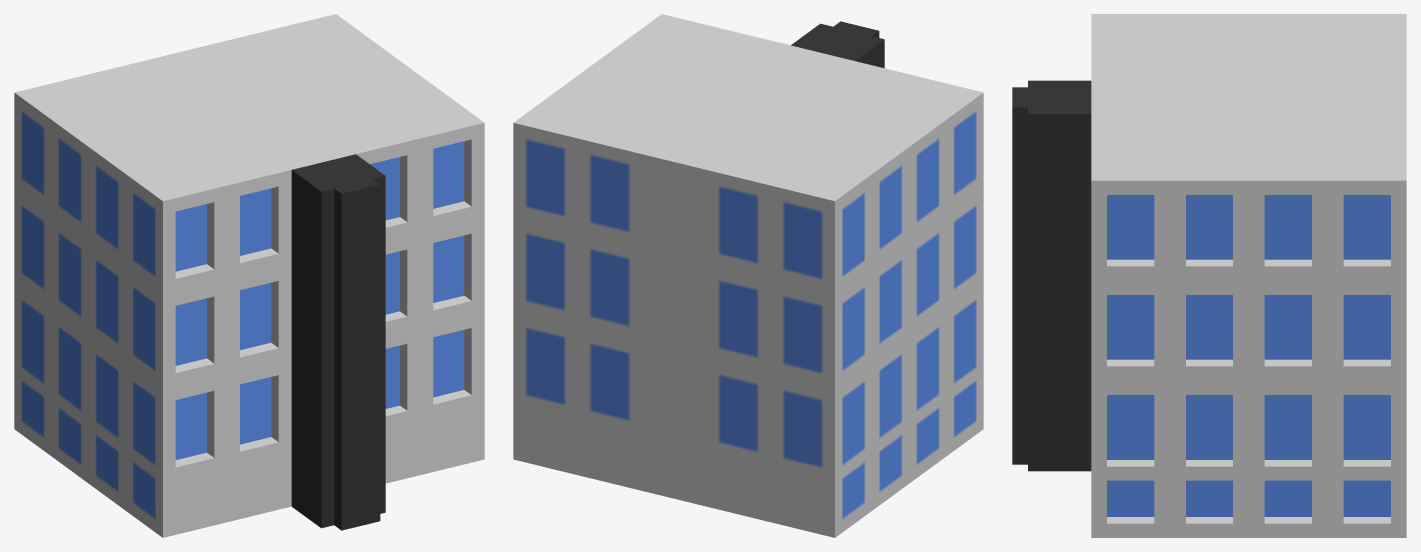
File: twentythModel.fbx
3 views of the same model, side by side, from view 1: azimuth 30°, elevation 25°; view 2: azimuth 150°, elevation 25°; view 3: azimuth 270°, elevation 25° (orthographic). The views are drawn at different scales.
Visible parts, largest first — view 1: Box; view 2: Box; view 3: Box.
Boxes of the visible parts, box(x1,y1,x2,y2) form: Box: box(14, 14, 484, 537); Box: box(513, 14, 983, 537); Box: box(1012, 14, 1406, 537).
Size of the model in its own units: 25 by 25 by 25.
1 material, 1 textured.
